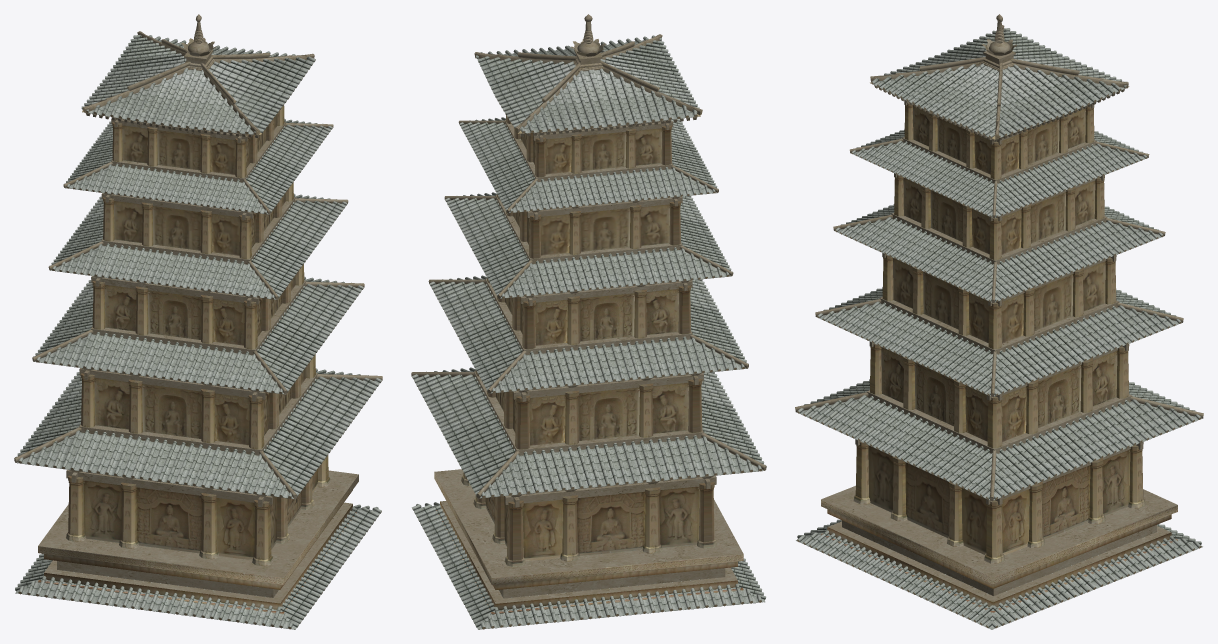
The model's file is gujian4.glb.
The picture shows the model from 3 angles, left to right: view 1: azimuth 30°, elevation 25°; view 2: azimuth 150°, elevation 25°; view 3: azimuth 270°, elevation 25°; orthographic projection. The views are drawn at different scales.
Visible parts, largest first — view 1: Cylinder1308, Object1901, Line309, Cylinder1308.001; view 2: Cylinder1308, Object1901, Line309, Cylinder1308.001; view 3: Cylinder1308, Object1901, Line309, Cylinder1308.001.
Boxes of the visible parts, bbox=[...] form: Cylinder1308: bbox=[15, 34, 381, 499]; Object1901: bbox=[38, 105, 358, 614]; Line309: bbox=[14, 14, 382, 603]; Cylinder1308.001: bbox=[15, 504, 381, 629]; Cylinder1308: bbox=[412, 35, 766, 498]; Object1901: bbox=[434, 115, 743, 614]; Line309: bbox=[411, 14, 766, 603]; Cylinder1308.001: bbox=[412, 502, 766, 629]; Cylinder1308: bbox=[796, 28, 1202, 501]; Object1901: bbox=[821, 102, 1177, 612]; Line309: bbox=[795, 14, 1203, 602]; Cylinder1308.001: bbox=[796, 519, 1202, 629].
Bounding box in the file's own units: 14.52 × 20.76 × 14.52.
4 materials, 4 textured.
